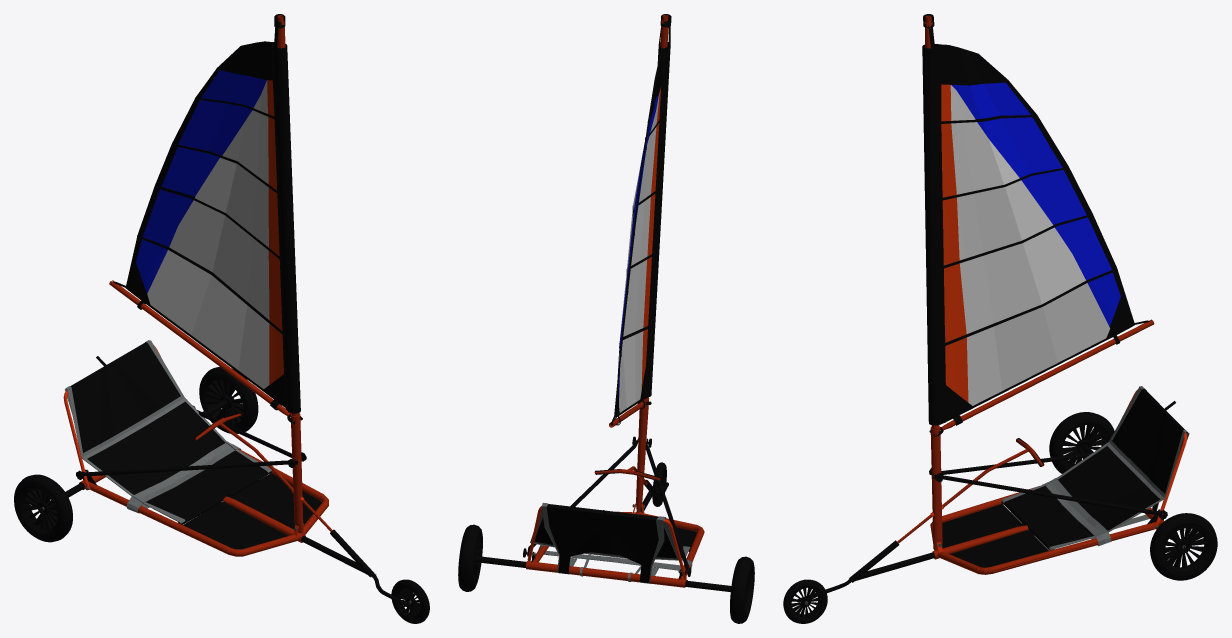
The model's file is WindKartCorSolida.glb.
The picture shows the model from 3 angles, left to right: view 1: azimuth 30°, elevation 25°; view 2: azimuth 150°, elevation 25°; view 3: azimuth 270°, elevation 25°; orthographic projection. The views are drawn at different scales.
Parts seen in each view (by area): view 1: mesh_id30, mesh_id24, mesh_id17, mesh_id29, mesh_id21, mesh_id5, mesh_id10, mesh_id25, mesh_id28, mesh_id11, mesh_id19; view 2: mesh_id24, mesh_id17, mesh_id30, mesh_id21, mesh_id10, mesh_id25, mesh_id28, mesh_id11, mesh_id29, mesh_id19, mesh_id9, mesh_id20; view 3: mesh_id30, mesh_id17, mesh_id24, mesh_id29, mesh_id21, mesh_id28, mesh_id10, mesh_id5, mesh_id25, mesh_id11, mesh_id20, mesh_id19.
Boxes of the visible parts, x1,y1,x2,y2 form: mesh_id30: [147, 81, 269, 388]; mesh_id24: [70, 342, 269, 524]; mesh_id17: [41, 14, 300, 509]; mesh_id29: [136, 70, 266, 293]; mesh_id21: [14, 366, 429, 623]; mesh_id5: [178, 471, 321, 549]; mesh_id10: [79, 15, 328, 556]; mesh_id25: [65, 340, 271, 523]; mesh_id28: [267, 80, 283, 384]; mesh_id11: [195, 413, 332, 533]; mesh_id19: [82, 460, 297, 476]; mesh_id24: [534, 504, 690, 583]; mesh_id17: [610, 14, 731, 591]; mesh_id30: [618, 92, 659, 412]; mesh_id21: [458, 462, 754, 623]; mesh_id10: [526, 15, 704, 587]; mesh_id25: [530, 502, 692, 583]; mesh_id28: [641, 87, 661, 389]; mesh_id11: [594, 397, 660, 512]; mesh_id29: [617, 93, 659, 397]; mesh_id19: [645, 438, 688, 574]; mesh_id9: [527, 476, 686, 579]; mesh_id20: [527, 438, 682, 579]; mesh_id30: [950, 85, 1110, 405]; mesh_id17: [922, 14, 1149, 453]; mesh_id24: [1002, 388, 1187, 549]; mesh_id29: [951, 82, 1120, 326]; mesh_id21: [783, 412, 1217, 623]; mesh_id28: [941, 84, 968, 402]; mesh_id10: [924, 15, 1164, 574]; mesh_id5: [938, 477, 1054, 567]; mesh_id25: [1001, 386, 1189, 550]; mesh_id11: [897, 427, 1043, 549]; mesh_id20: [933, 474, 1160, 515]; mesh_id19: [929, 452, 1092, 474].
Bounding box in the file's own units: 0.253 × 0.5237 × 0.3588.
26 materials, 26 textured.
